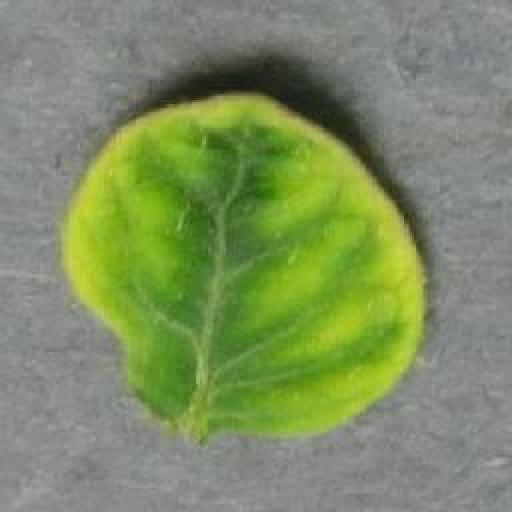Yellow Leaf Curl Virus: (58, 88, 425, 440)
